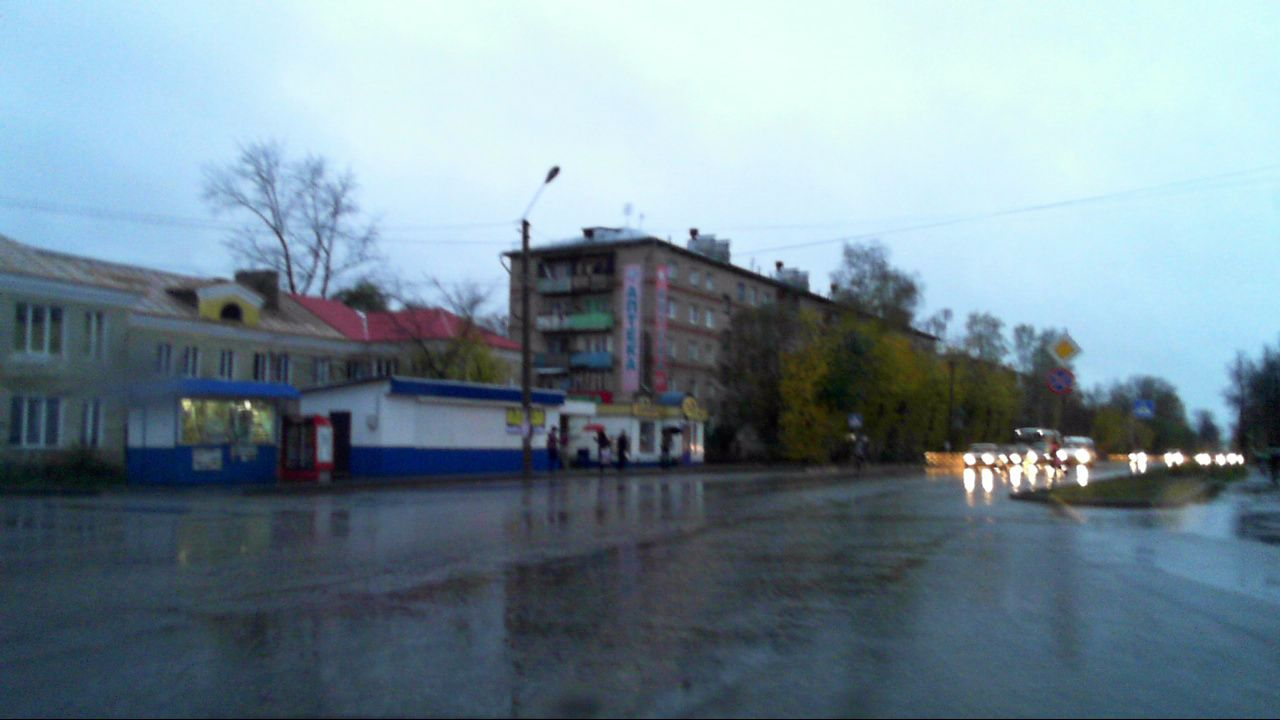No Parking: (1045, 366, 1074, 394)
